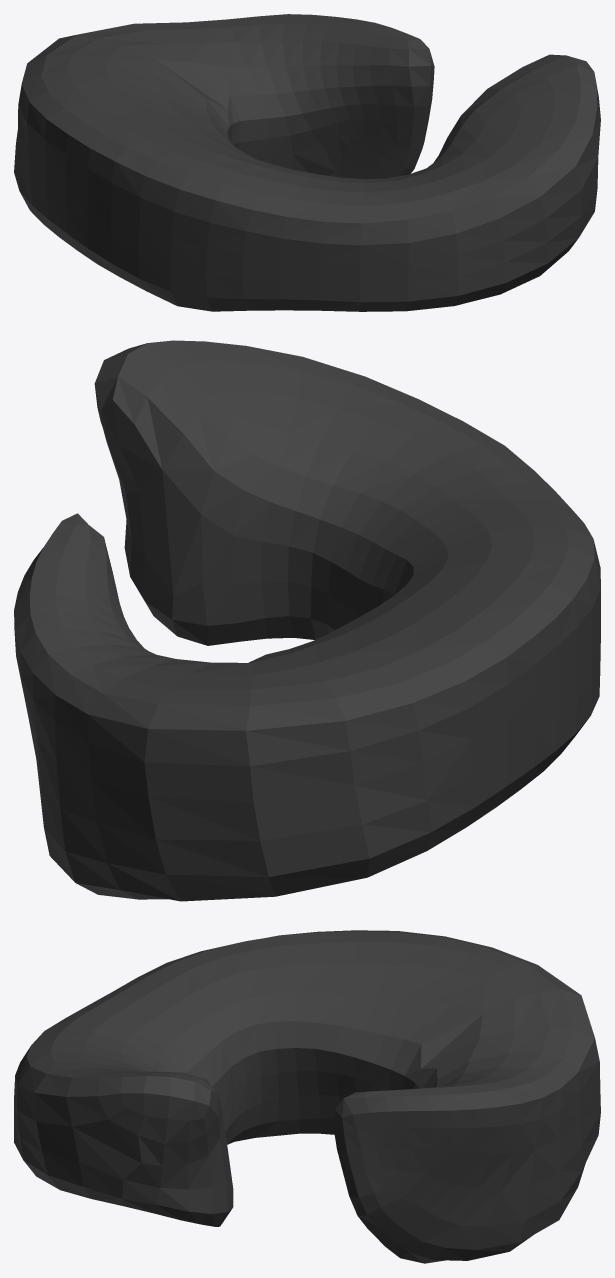
Rendered from Medial_meniscus.glb.
3 views of the same model, one above another, from view 1: azimuth 30°, elevation 25°; view 2: azimuth 150°, elevation 25°; view 3: azimuth 270°, elevation 25° (orthographic). The views are drawn at different scales.
Parts seen in each view (by area): view 1: Medial_meniscus; view 2: Medial_meniscus; view 3: Medial_meniscus.
Part boxes in pixels (x1=…): Medial_meniscus: x1=14, y1=14, x2=600, y2=311; Medial_meniscus: x1=14, y1=340, x2=600, y2=901; Medial_meniscus: x1=14, y1=930, x2=600, y2=1263.
Bounding box in the file's own units: 55.98 × 30.14 × 67.77.
1 material, 1 textured.
